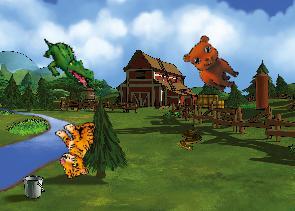bear: (178, 31, 248, 96)
crocodile: (33, 36, 101, 90)
tiger: (49, 116, 107, 180)
